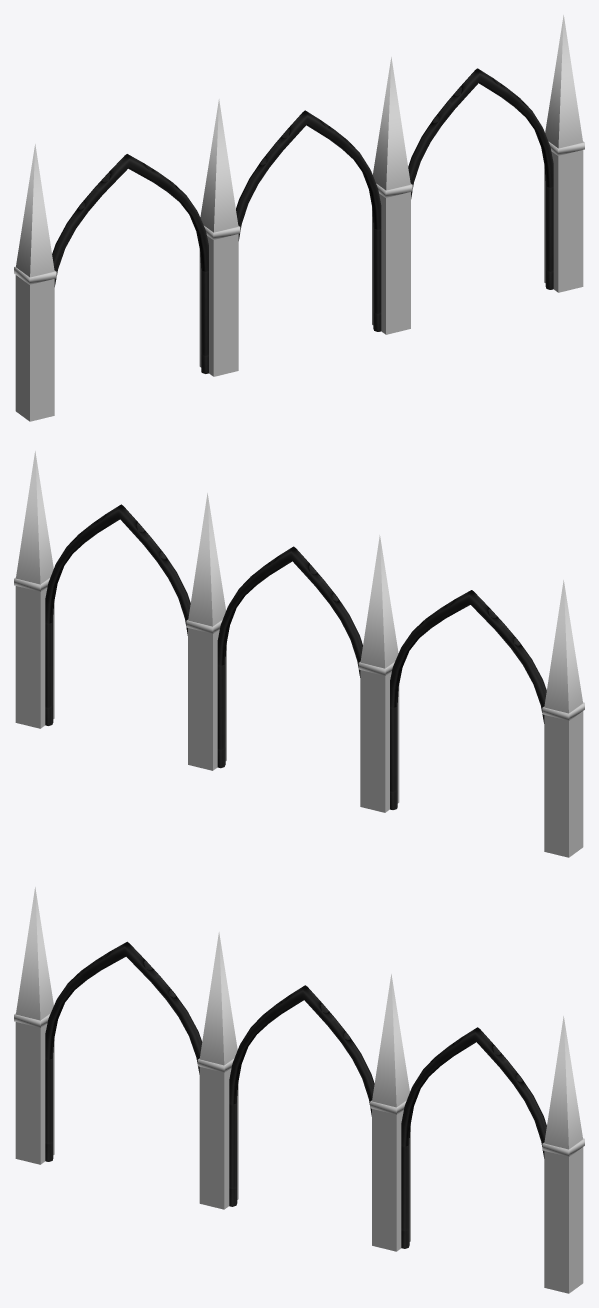
Rendered from gate3.dae.
3 renders of one model, top to bottom at view 1: azimuth 30°, elevation 25°; view 2: azimuth 150°, elevation 25°; view 3: azimuth 330°, elevation 25°, orthographic.
Visible parts, largest first — view 1: start_gate3Shape-P0, start_gate3Shape-P1; view 2: start_gate3Shape-P0, start_gate3Shape-P1; view 3: start_gate3Shape-P0, start_gate3Shape-P1.
Part boxes in pixels (x1=…): start_gate3Shape-P0: x1=14, y1=15, x2=584, y2=421; start_gate3Shape-P1: x1=52, y1=68, x2=553, y2=373; start_gate3Shape-P0: x1=14, y1=451, x2=584, y2=857; start_gate3Shape-P1: x1=45, y1=504, x2=546, y2=809; start_gate3Shape-P0: x1=14, y1=887, x2=584, y2=1293; start_gate3Shape-P1: x1=45, y1=941, x2=546, y2=1248.
Bounding box in the file's own units: 9.67 × 4.5 × 0.4684.
